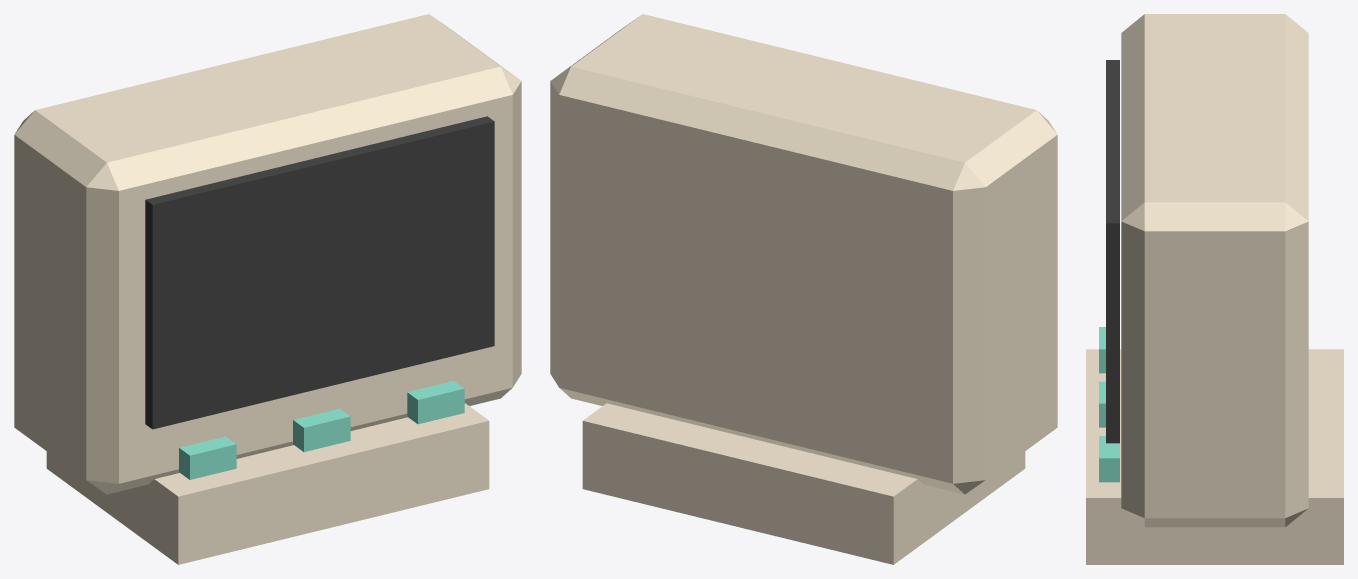
The picture shows the model from 3 angles, left to right: view 1: azimuth 30°, elevation 25°; view 2: azimuth 150°, elevation 25°; view 3: azimuth 270°, elevation 25°; orthographic projection. The views are drawn at different scales.
Parts seen in each view (by area): view 1: Housing, Readout, Foot, Control, Control.002, Control.001; view 2: Housing, Foot; view 3: Housing, Foot, Readout, Control.002.
Boxes of the visible parts, box(x1,y1,x2,y2) form: Housing: box(14, 14, 521, 494); Readout: box(145, 116, 494, 429); Foot: box(46, 403, 489, 564); Control: box(179, 436, 236, 479); Control.002: box(407, 381, 464, 424); Control.001: box(293, 408, 350, 451); Housing: box(550, 14, 1057, 494); Foot: box(582, 403, 1025, 564); Housing: box(1121, 14, 1308, 527); Foot: box(1086, 349, 1343, 564); Readout: box(1106, 60, 1119, 443); Control.002: box(1099, 436, 1119, 482).
Bounding box in the file's own units: 0.42 × 0.36 × 0.22.
1 material, 1 textured.
